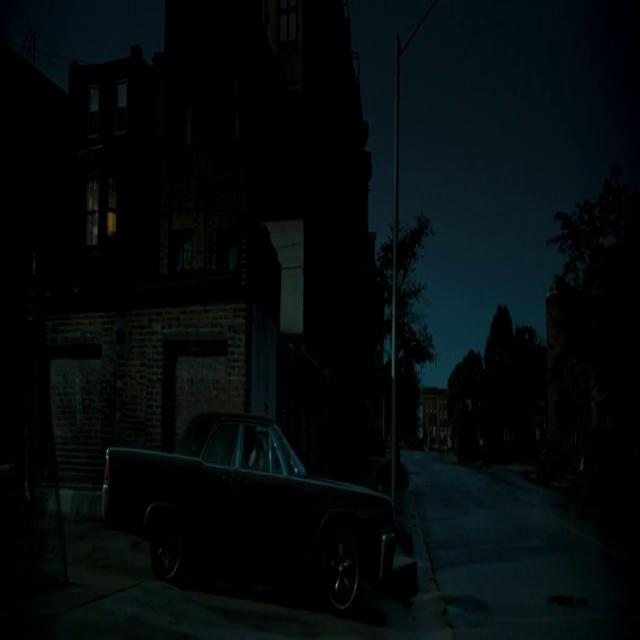Car: (99, 378, 422, 612)
